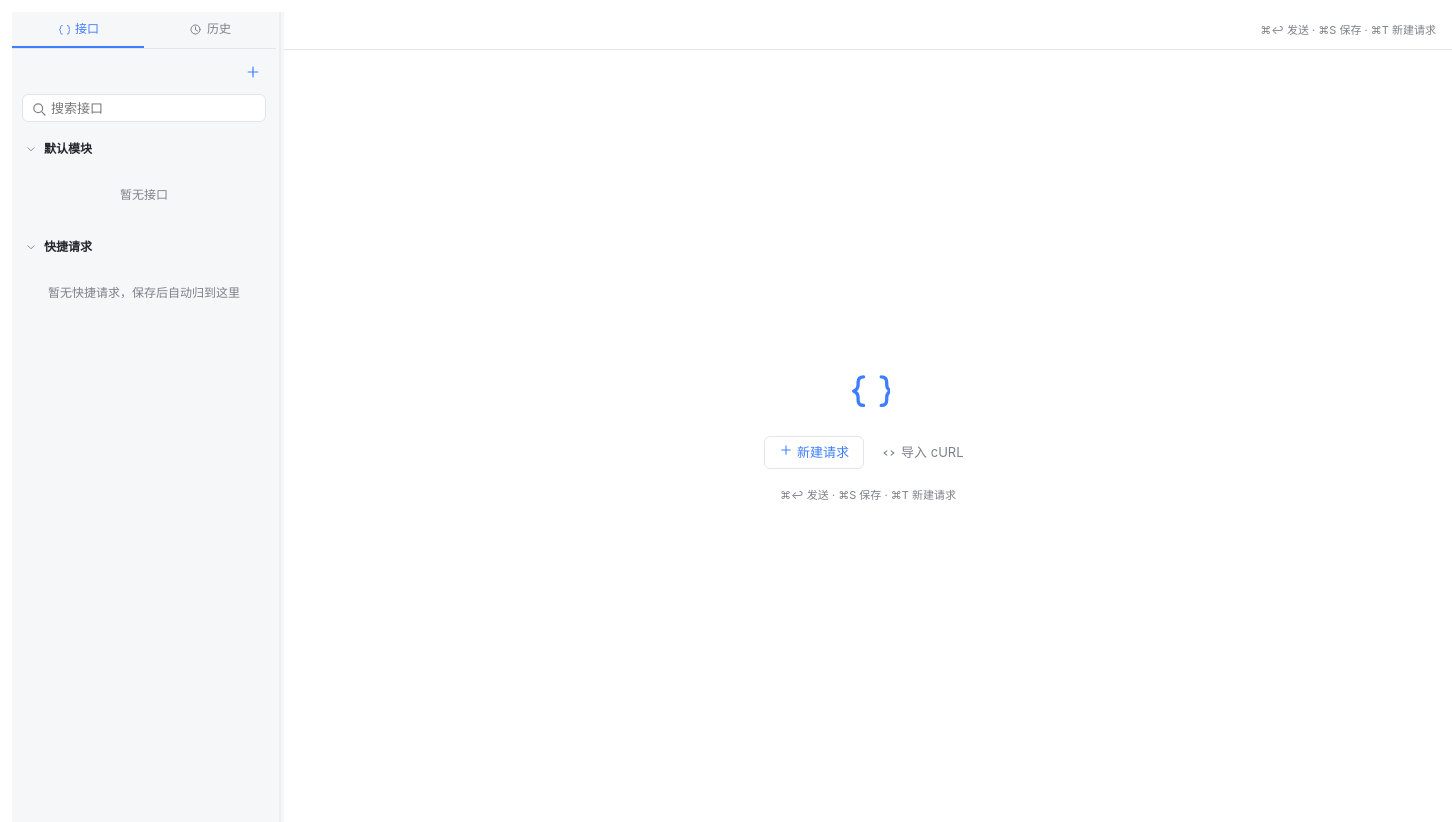
it: pane splitters › keeps the request line and tab strip out of the scrolling panel
What coordinates should you click on to do the following:
click the button "新建请求"
I would click on:
 (814, 453)
Its box is [764,436,864,469].
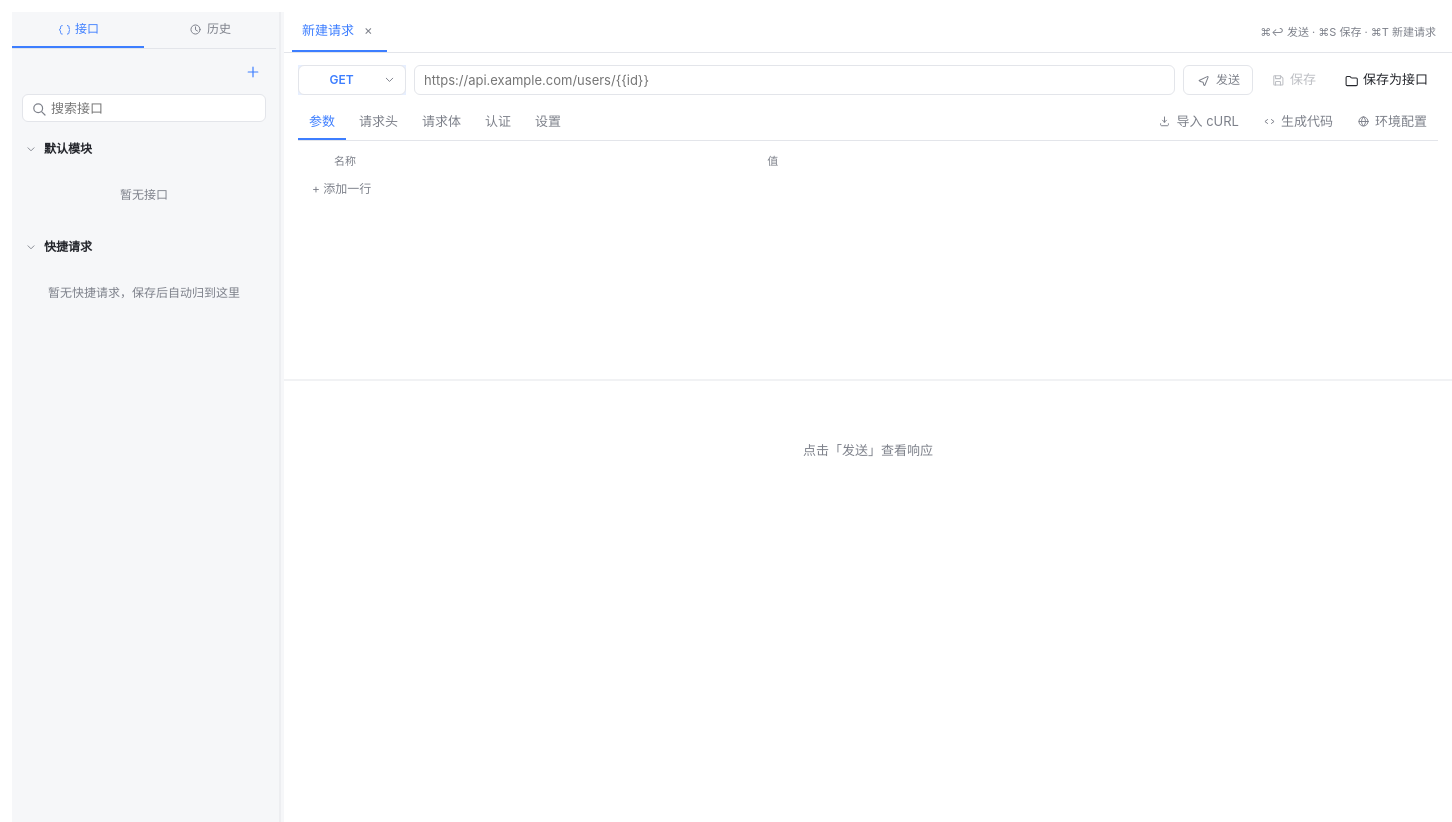
Check: the element with class "req-line" is shown, box [298,64,1438,94]
Check: the element with class "req-tabs" is shown, box [298,104,1438,141]
Check: the element with class "req-body" is shown, box [304,154,778,202]
